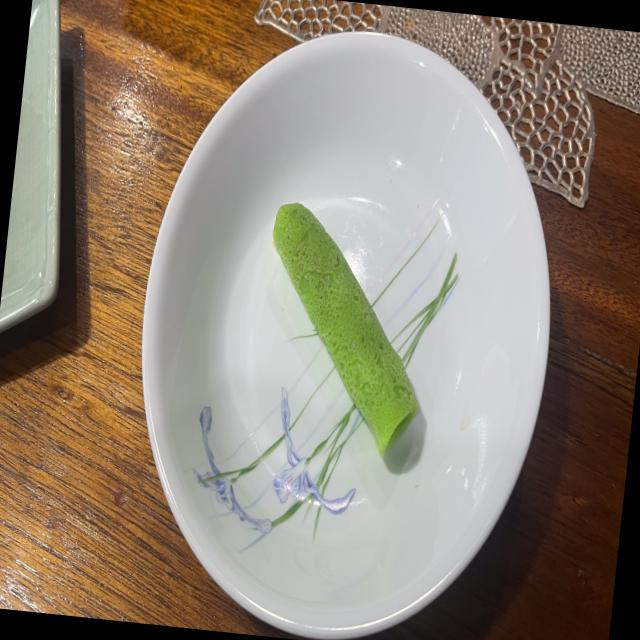Kuih-Ketayap: (272, 203, 417, 454)
